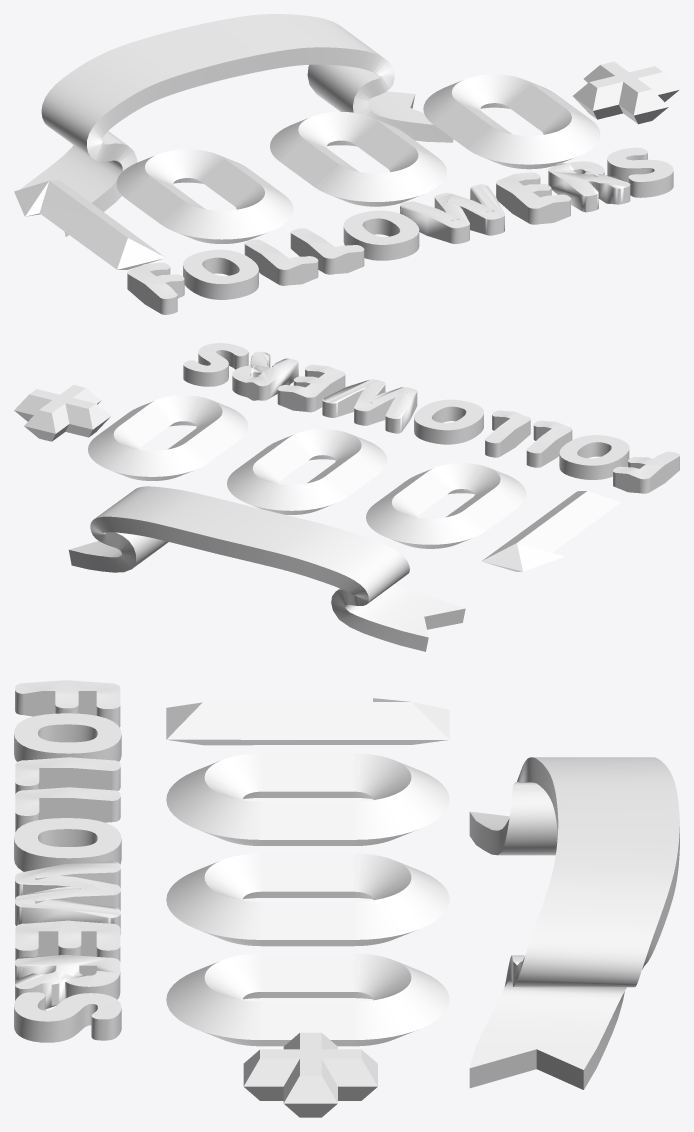
3 views of the same model, one above another, from view 1: azimuth 30°, elevation 25°; view 2: azimuth 150°, elevation 25°; view 3: azimuth 270°, elevation 25° (orthographic). The views are drawn at different scales.
Parts seen in each view (by area): view 1: Outline_weiß; view 2: Outline_weiß; view 3: Outline_weiß.
Boxes of the visible parts, box(x1,y1,x2,y2) form: Outline_weiß: box(14, 14, 679, 314); Outline_weiß: box(14, 343, 679, 651); Outline_weiß: box(14, 680, 679, 1117).
Size of the model in its own units: 576 by 92.09 by 400.
1 material, 1 textured.
